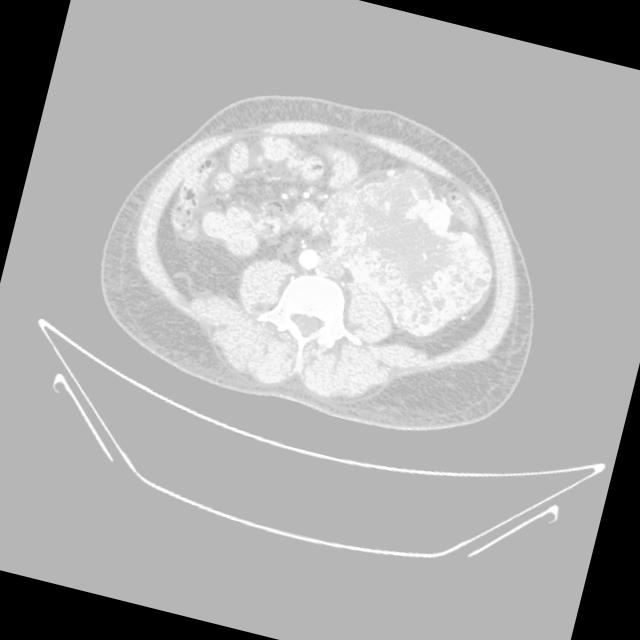TUMOR: (122, 116, 484, 371)
